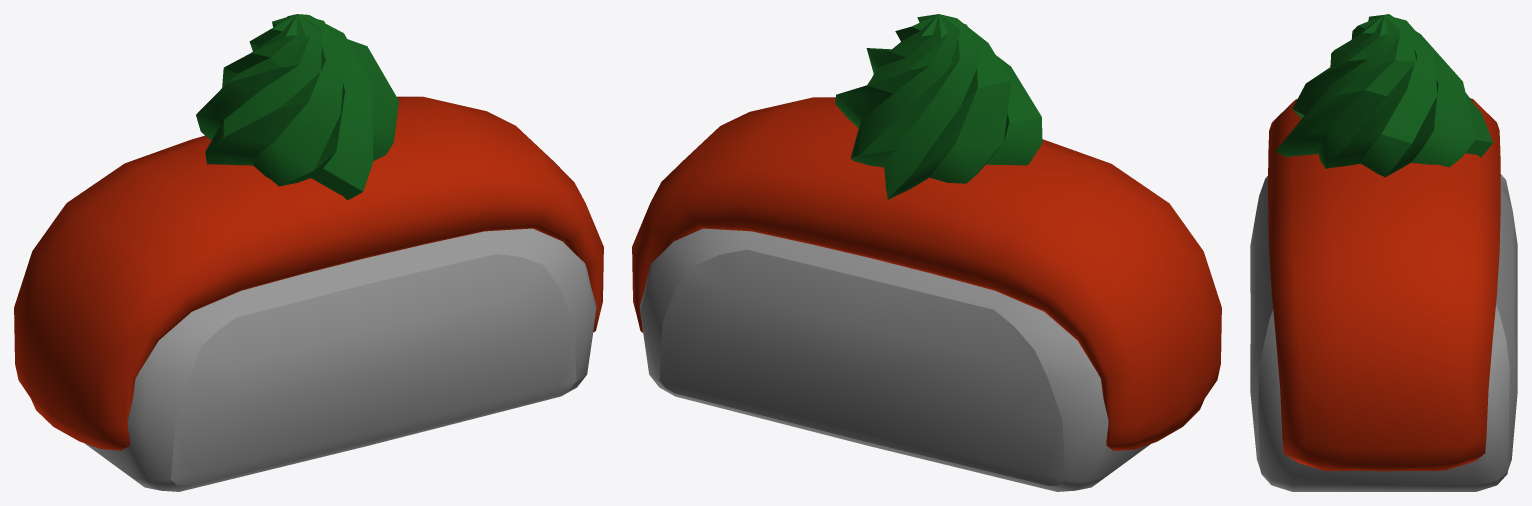
The model's file is Sushi_4.FBX.
3 views of the same model, side by side, from view 1: azimuth 30°, elevation 25°; view 2: azimuth 150°, elevation 25°; view 3: azimuth 270°, elevation 25° (orthographic). The views are drawn at different scales.
Visible parts, largest first — view 1: Sushi_4; view 2: Sushi_4; view 3: Sushi_4.
Boxes of the visible parts, box(x1,y1,x2,y2) form: Sushi_4: box(14, 14, 603, 491); Sushi_4: box(632, 14, 1221, 491); Sushi_4: box(1250, 14, 1517, 491).
Bounding box in the file's own units: 1303 × 600 × 938.
